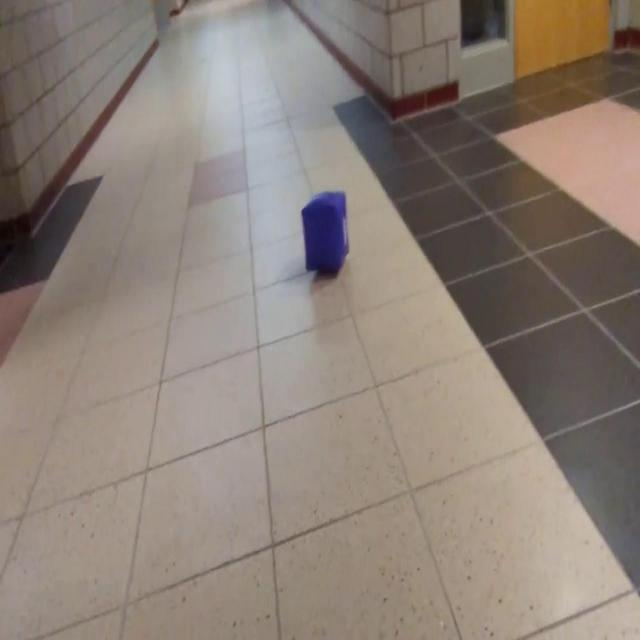frc_cube: (301, 191, 347, 276)
